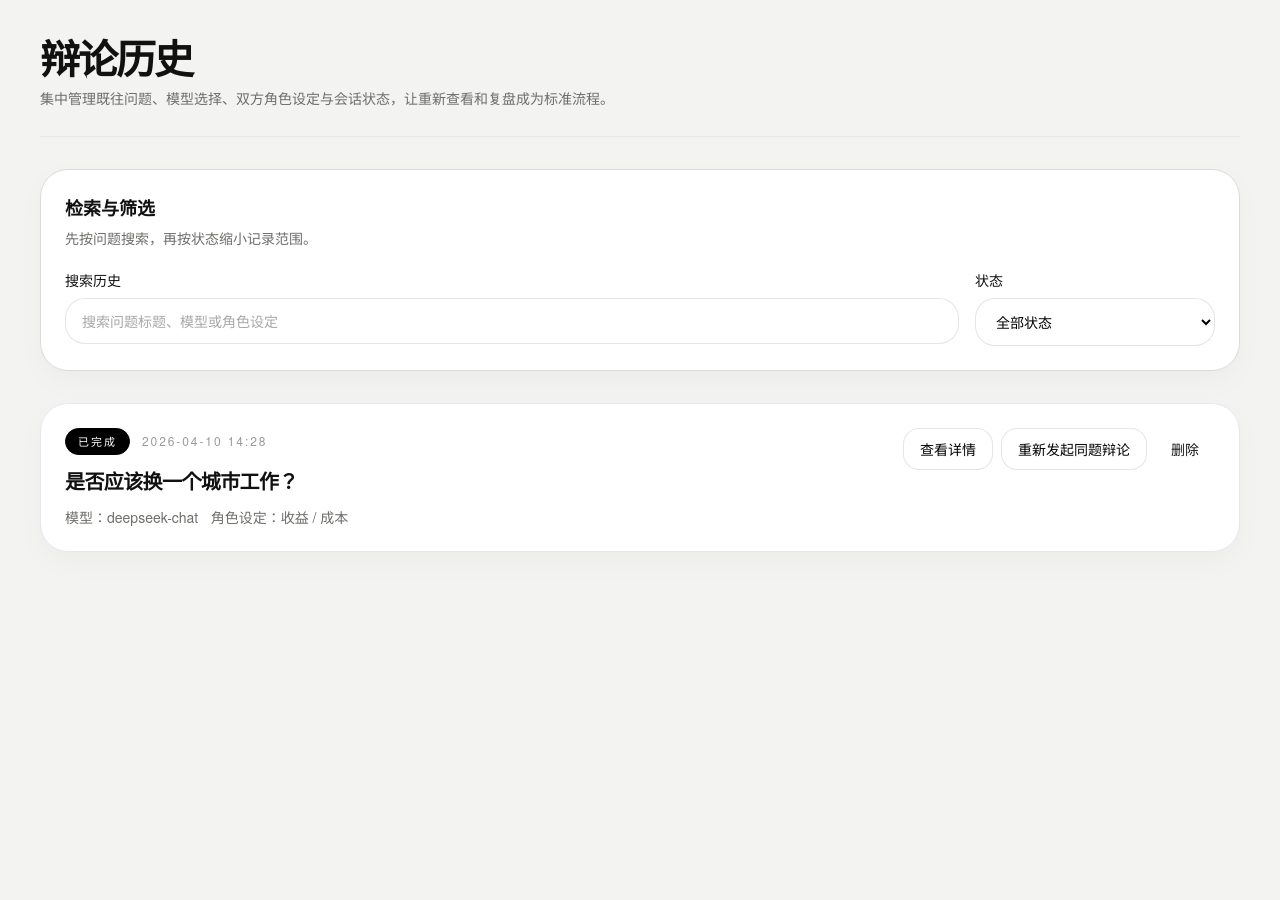
Test: HistoryPage › restores the debate draft and role settings when rerunning a history record
What coordinates should you click on to do the following:
click the button "重新发起同题辩论"
I would click on:
 (1074, 449)
Its box is [1001,428,1147,470].
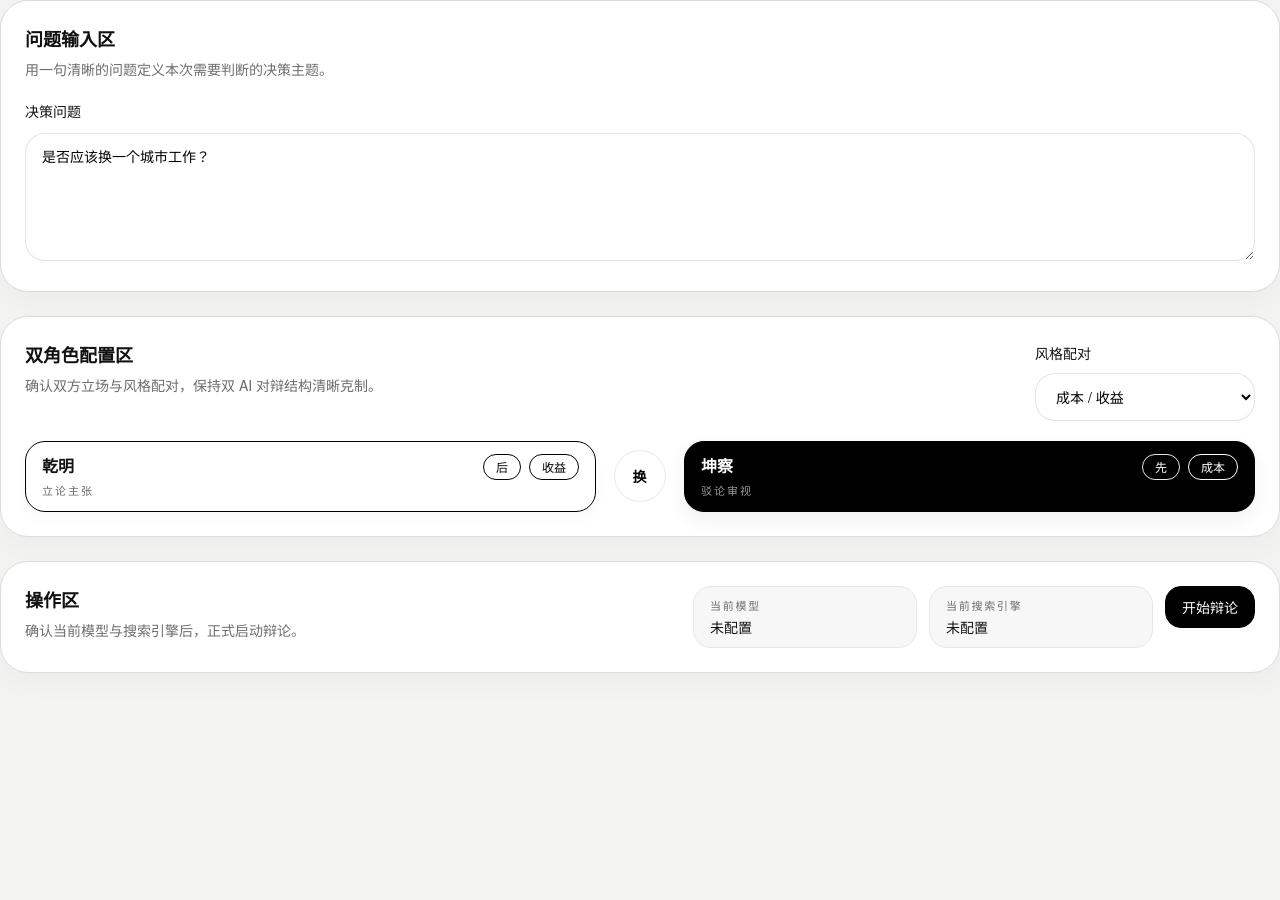
Result: the text box labelled "决策问题" holds "是否应该换一个城市工作？" at [25,133,1255,261]
Result: the text "乾明" is shown at [42,454,74,477]
Result: the text "坤察" is shown at [701,454,733,477]
